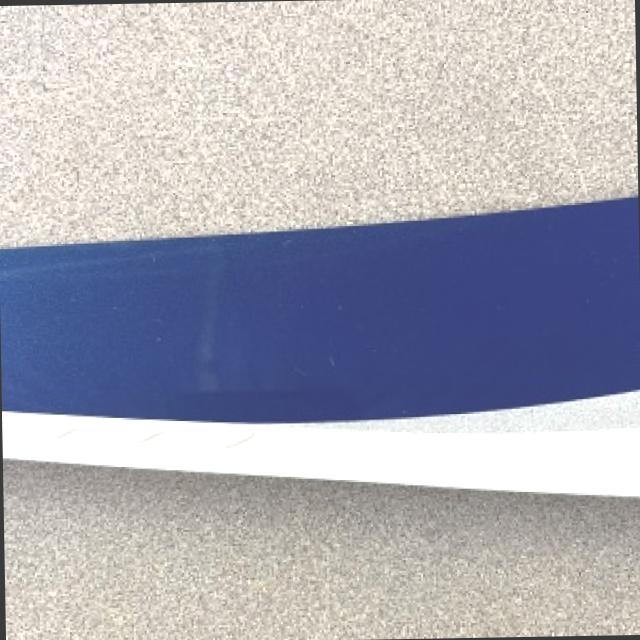healthy: (0, 197, 640, 491)
